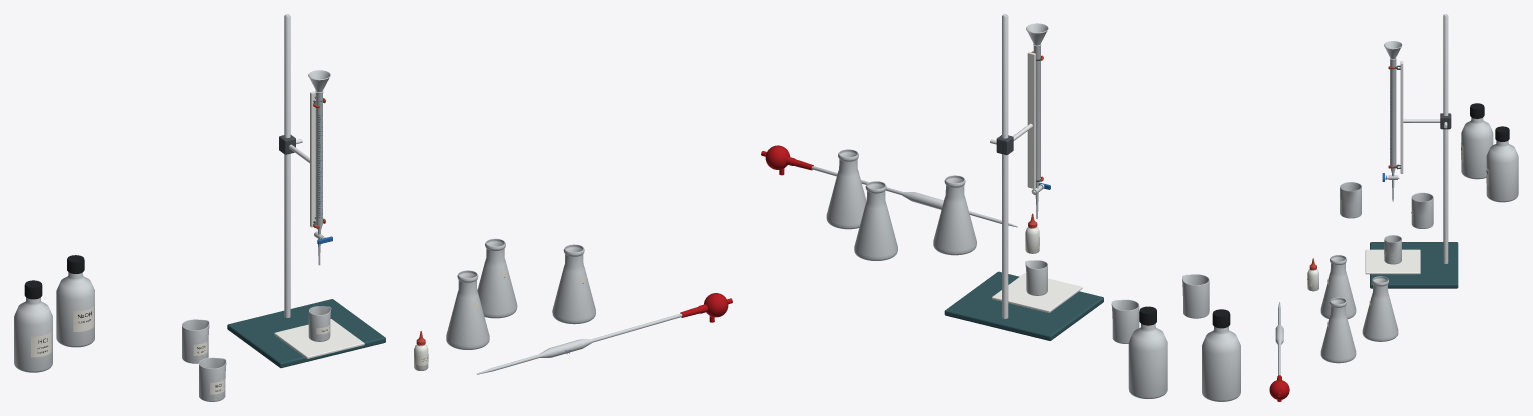
Rendered from titolazione.glb.
3 views of the same model, side by side, from view 1: azimuth 30°, elevation 25°; view 2: azimuth 150°, elevation 25°; view 3: azimuth 270°, elevation 25° (orthographic). The views are drawn at different scales.
Parts seen in each view (by area): view 1: BuretteStandBase, Flask1Glass, Flask3Glass, NaOHBottleGlass, SampleBottleGlass, Flask2Glass, BuretteStandRod, BuretteStandTile, BuretteGlass, PipetteGlass, SampleBeakerGlass, NaOHBeakerGlass (+3 smaller); view 2: BuretteStandBase, NaOHBottleGlass, SampleBottleGlass, Flask1Glass, Flask2Glass, Flask3Glass, BuretteStandRod, BuretteStandTile, BuretteStandSpine, SampleBeakerGlass, NaOHBeakerGlass, BuretteGlass (+3 smaller); view 3: BuretteStandBase, NaOHBottleGlass, Flask2Glass, Flask3Glass, SampleBottleGlass, BuretteStandRod, Flask1Glass, BuretteStandTile, BuretteGlass, NaOHBeakerGlass, SampleBeakerGlass, WasteBeakerGlass (+4 smaller).
Boxes of the visible parts, <box> form: BuretteStandBase: <box>227,299,385,368</box>; Flask1Glass: <box>446,270,489,349</box>; Flask3Glass: <box>552,244,595,324</box>; NaOHBottleGlass: <box>56,272,94,347</box>; SampleBottleGlass: <box>14,297,52,372</box>; Flask2Glass: <box>477,238,517,318</box>; BuretteStandRod: <box>284,14,290,317</box>; BuretteStandTile: <box>274,319,364,358</box>; BuretteGlass: <box>315,90,323,265</box>; PipetteGlass: <box>477,313,682,374</box>; SampleBeakerGlass: <box>199,357,226,401</box>; NaOHBeakerGlass: <box>182,319,209,363</box>; BuretteStandBase: <box>944,271,1103,340</box>; NaOHBottleGlass: <box>1128,324,1167,399</box>; SampleBottleGlass: <box>1202,326,1240,401</box>; Flask1Glass: <box>933,175,976,255</box>; Flask2Glass: <box>854,181,897,260</box>; Flask3Glass: <box>826,149,866,229</box>; BuretteStandRod: <box>1002,14,1008,318</box>; BuretteStandTile: <box>992,273,1082,312</box>; BuretteStandSpine: <box>1027,52,1035,188</box>; SampleBeakerGlass: <box>1182,274,1209,318</box>; NaOHBeakerGlass: <box>1111,299,1139,343</box>; BuretteGlass: <box>1033,44,1041,219</box>; BuretteStandBase: <box>1370,242,1458,288</box>; NaOHBottleGlass: <box>1486,140,1518,202</box>; Flask2Glass: <box>1362,276,1398,341</box>; Flask3Glass: <box>1320,297,1356,363</box>; SampleBottleGlass: <box>1461,117,1493,179</box>; BuretteStandRod: <box>1443,14,1448,263</box>; Flask1Glass: <box>1320,255,1356,318</box>; BuretteStandTile: <box>1365,249,1420,274</box>; BuretteGlass: <box>1389,58,1396,201</box>; NaOHBeakerGlass: <box>1411,192,1433,228</box>; SampleBeakerGlass: <box>1340,182,1361,218</box>; WasteBeakerGlass: <box>1384,235,1401,264</box>.
Size of the model in its own units: 1.34 by 0.6726 by 0.592.
